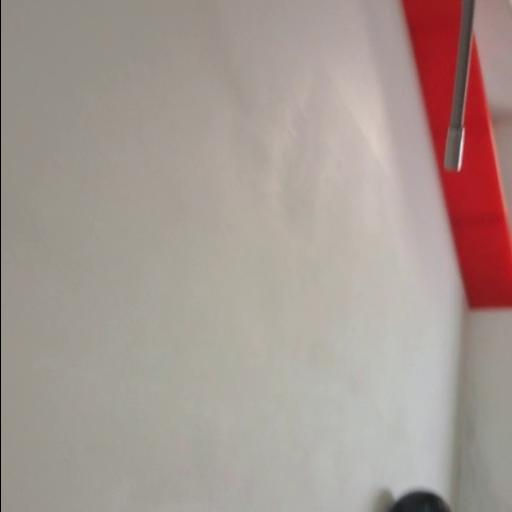dead: (383, 487, 459, 512)
